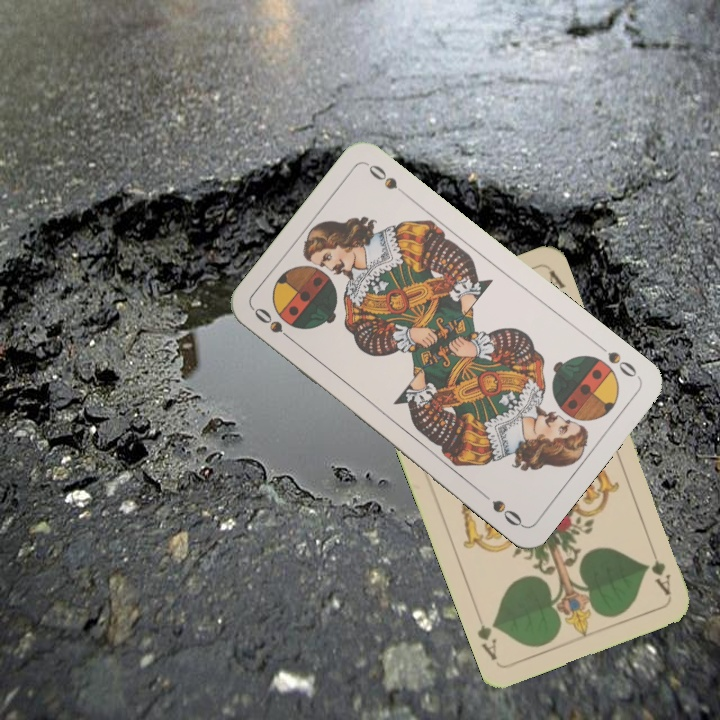GA: (645, 540, 674, 598)
SO: (249, 303, 300, 347), (592, 339, 642, 381)
